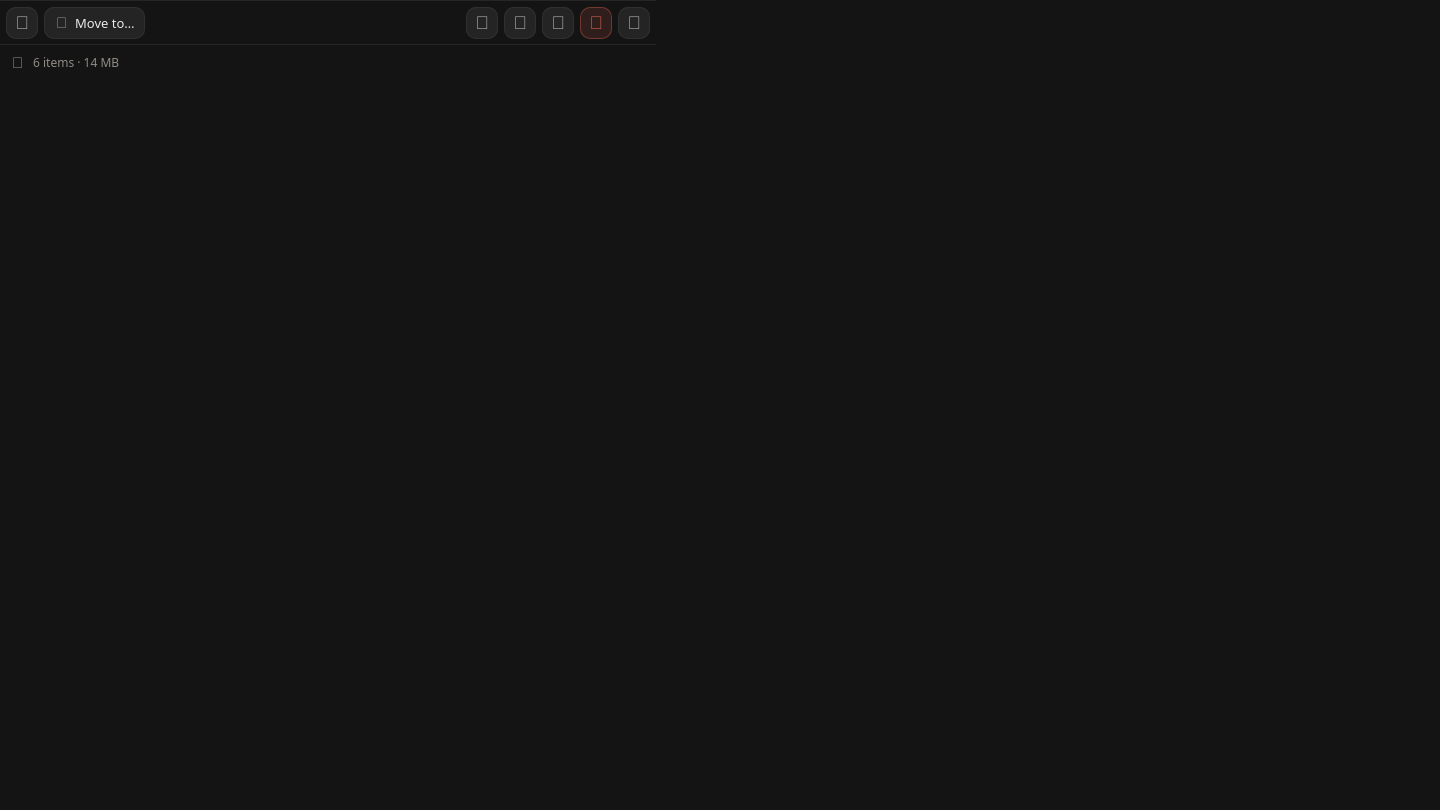
Test: a name already taken where it is going stays, and the banner says why
Click the button " Move to…" at (94, 22), box top-left (44, 6), bottom-right (145, 38)
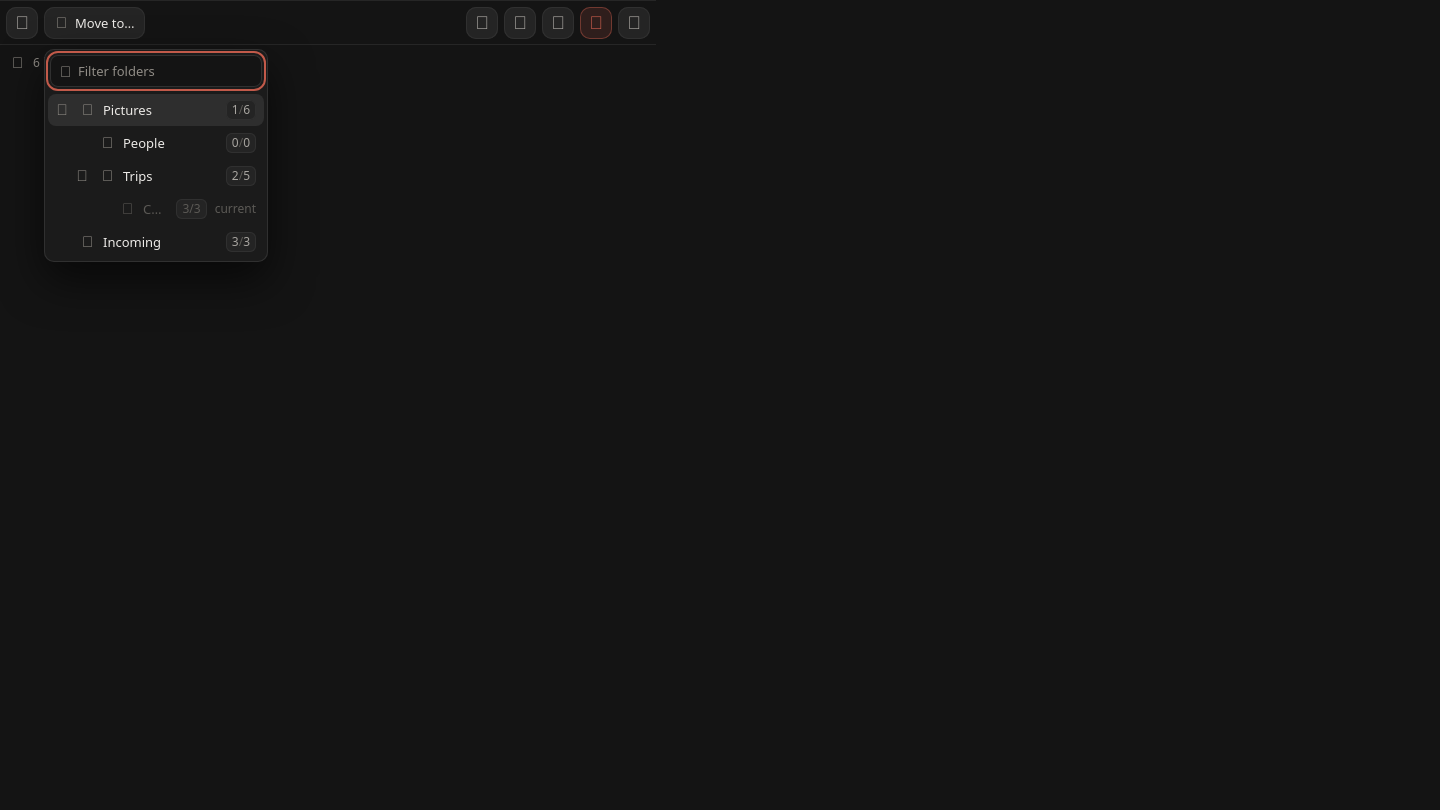
Click the option "  Pictures 1/6" at (156, 110), box top-left (48, 94), bottom-right (264, 126)
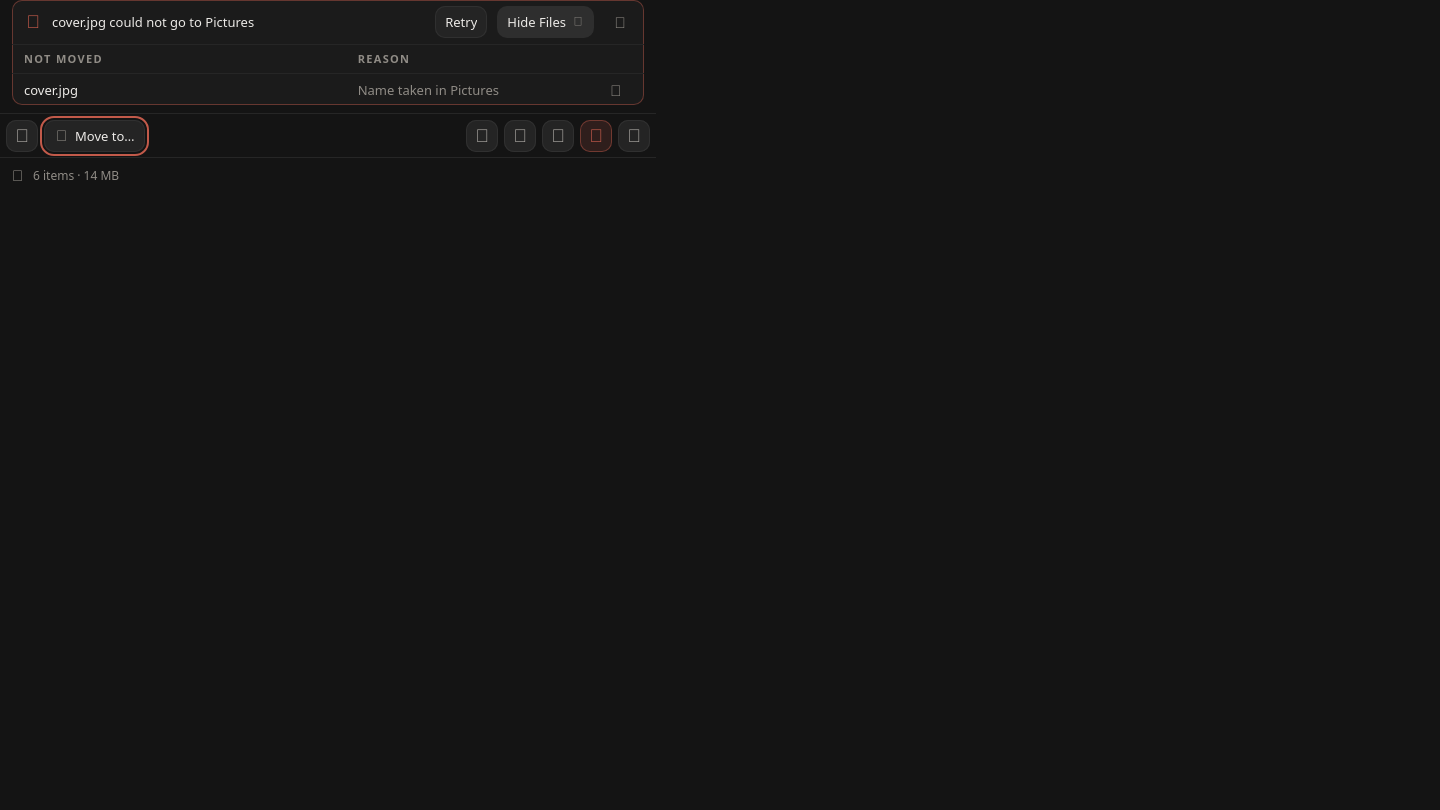
Expected: the text "Not Moved" is shown, top-left (24, 51), bottom-right (103, 66)
Expected: the text "Name taken in Pictures" is shown, top-left (358, 81), bottom-right (499, 99)
